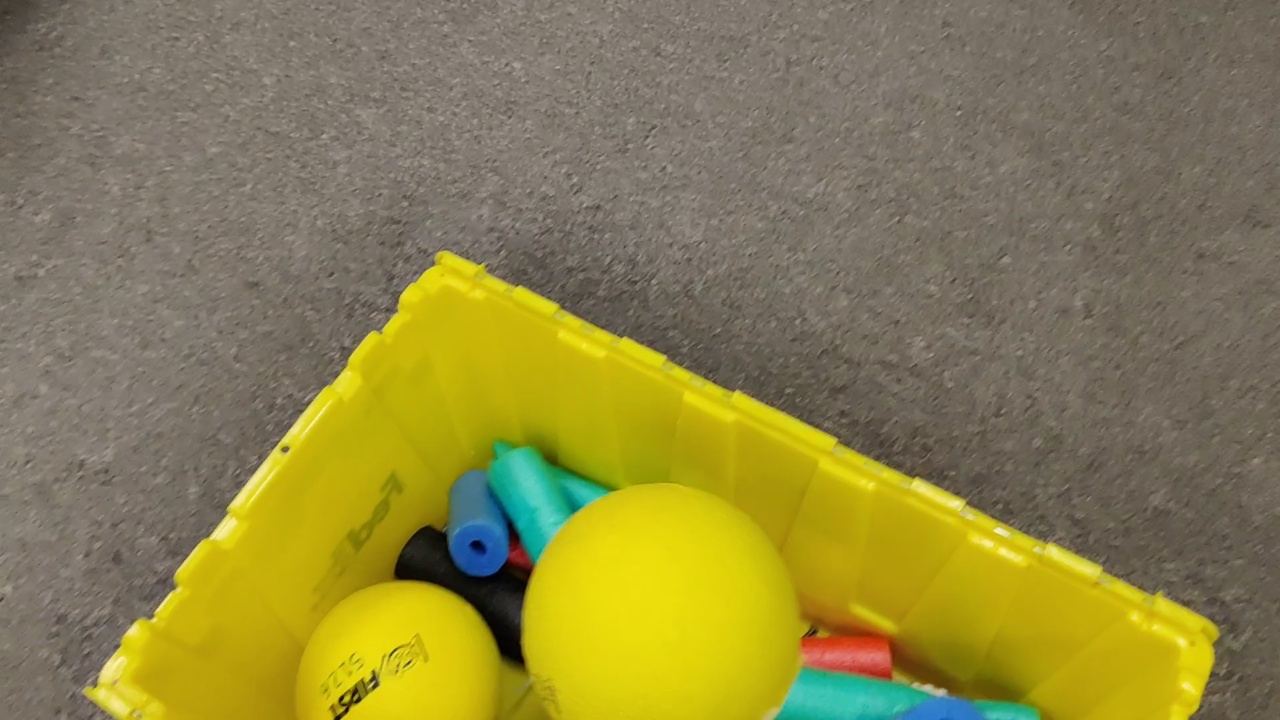Ball: (524, 480, 805, 720), (292, 582, 503, 720)
